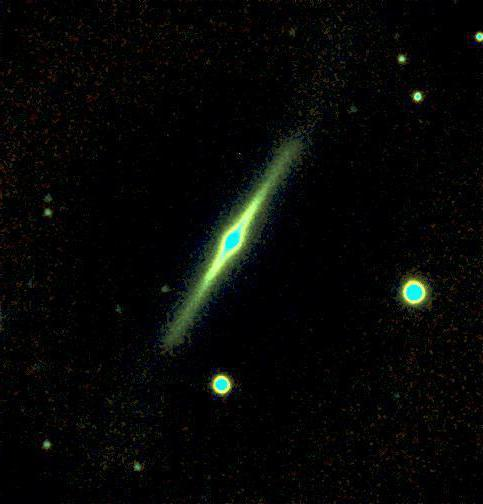star: (278, 18, 308, 48)
